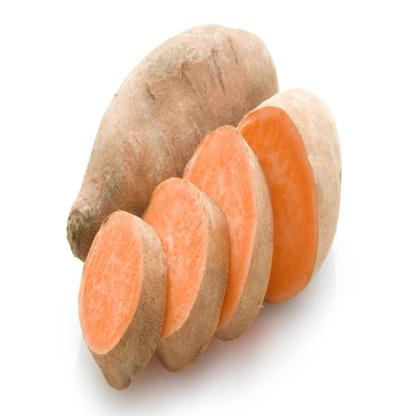---: (235, 79, 352, 294), (78, 212, 170, 397)
